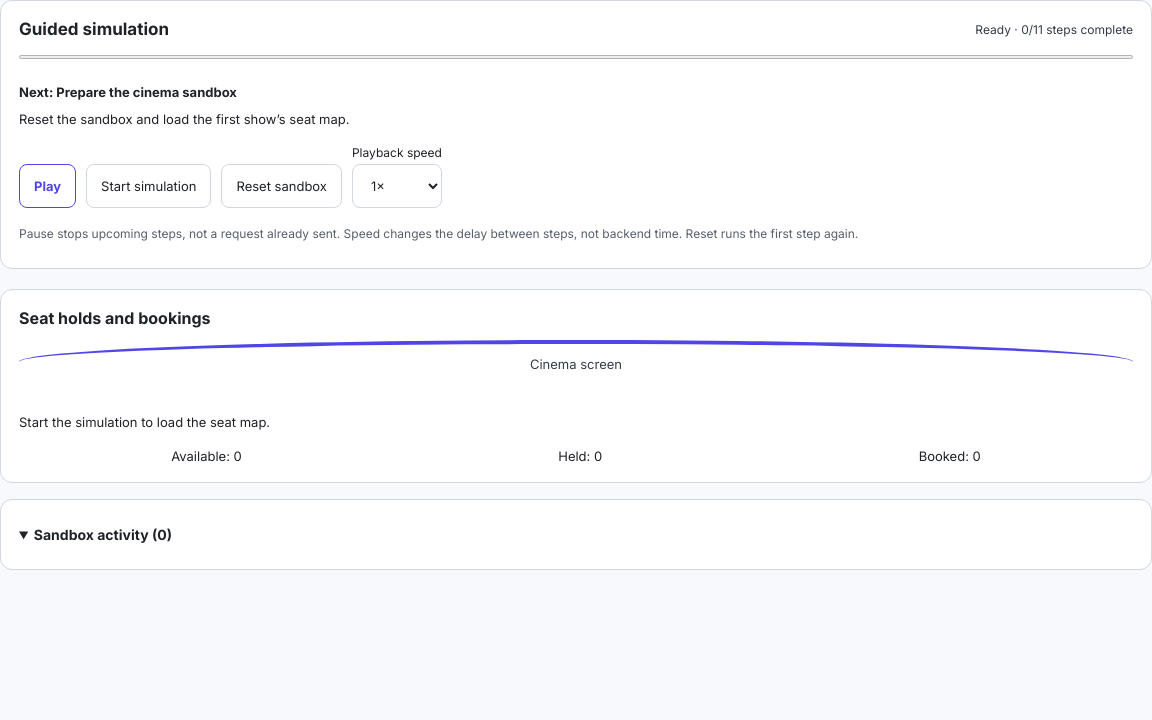
it: Commerce simulation playback › does not mistake an unrelated 409 response for the expected seat conflict
Click the button "Start simulation" at (149, 186), box left=86, top=164, right=212, bottom=208
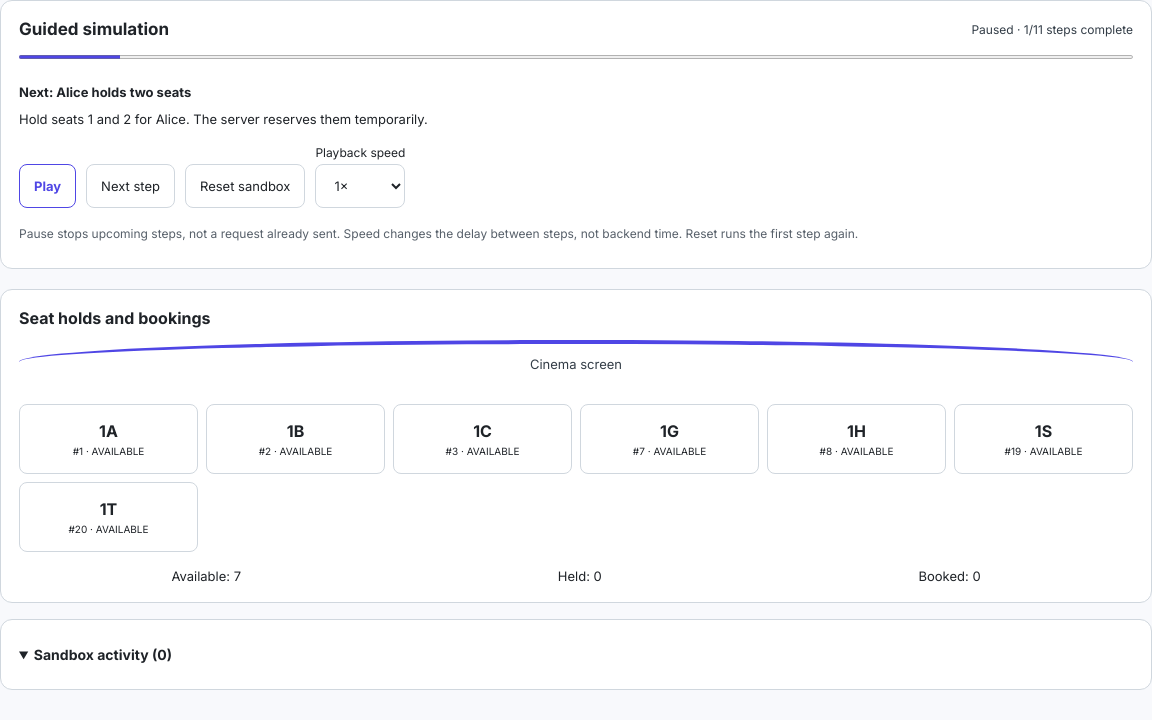
expect the progress indicator holds "1": met, box left=19, top=53, right=1133, bottom=61
Click the button "Next step" at (131, 186), box left=86, top=164, right=175, bottom=208
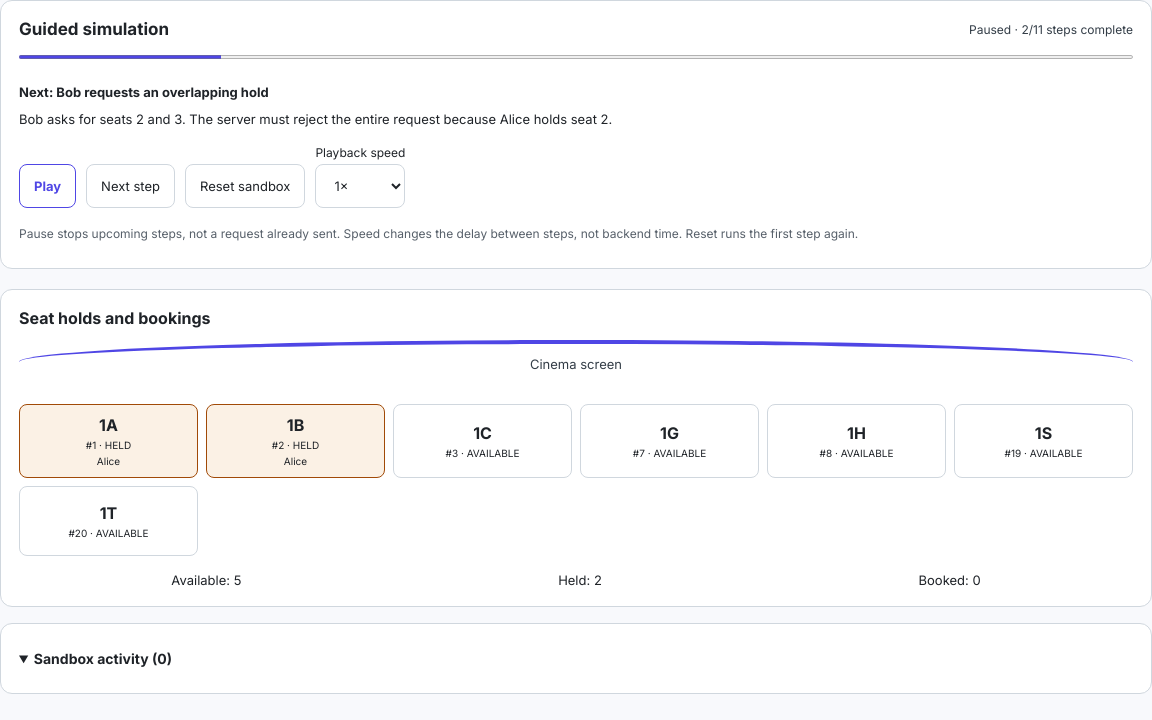
expect the progress indicator holds "2": met, box left=19, top=53, right=1133, bottom=61
Click the button "Next step" at (131, 186), box left=86, top=164, right=175, bottom=208
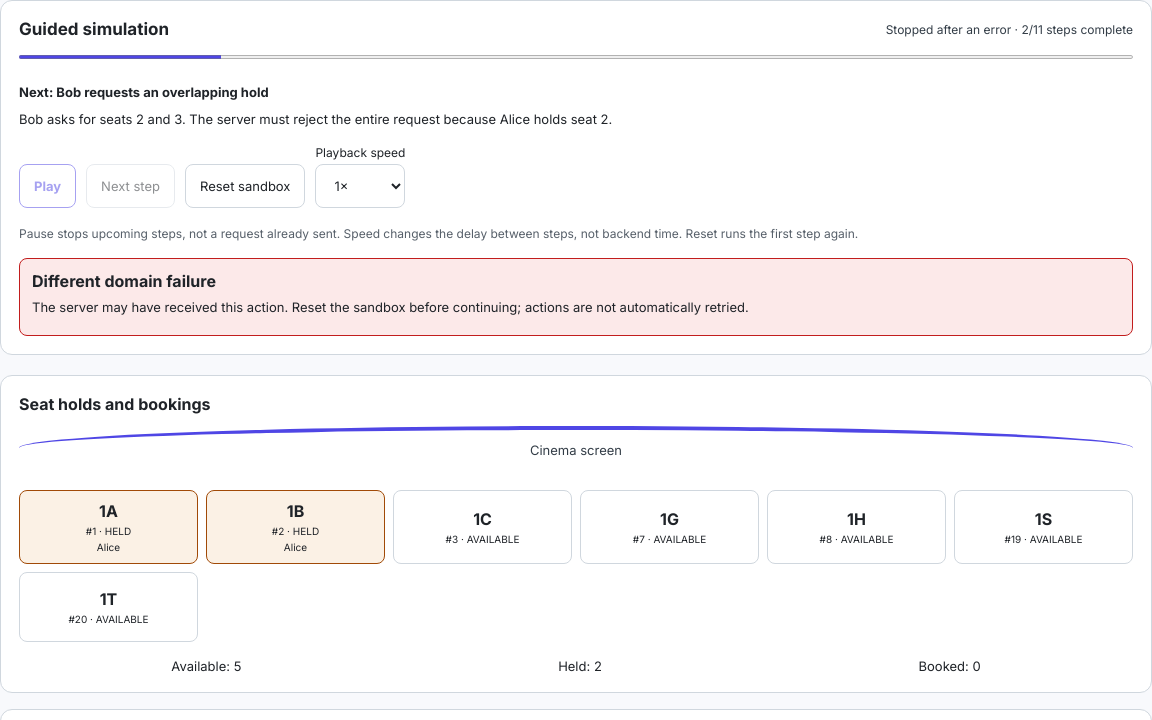
expect the progress indicator holds "2": met, box left=19, top=53, right=1133, bottom=61
expect the message that starts with "Different domain failure" is shown: met, box left=32, top=271, right=216, bottom=291
